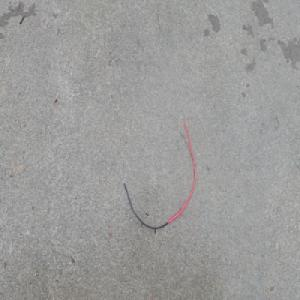Wire: (118, 111, 196, 231)
